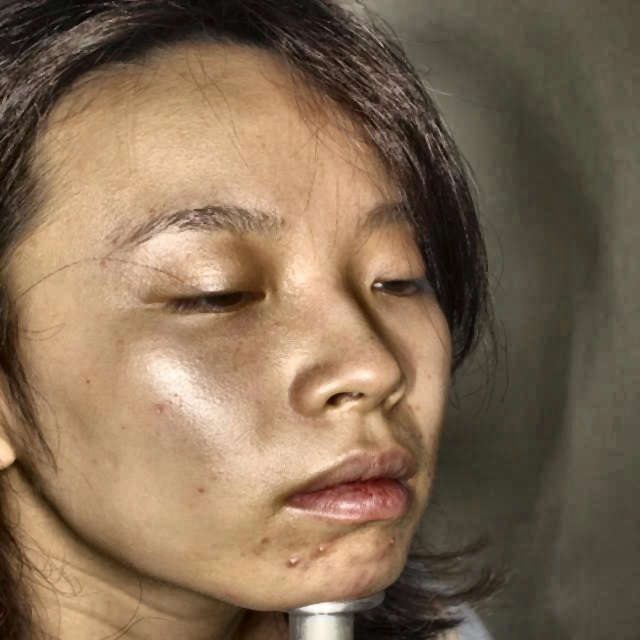comedone: (368, 532, 406, 564), (279, 549, 311, 580), (314, 540, 333, 559)
